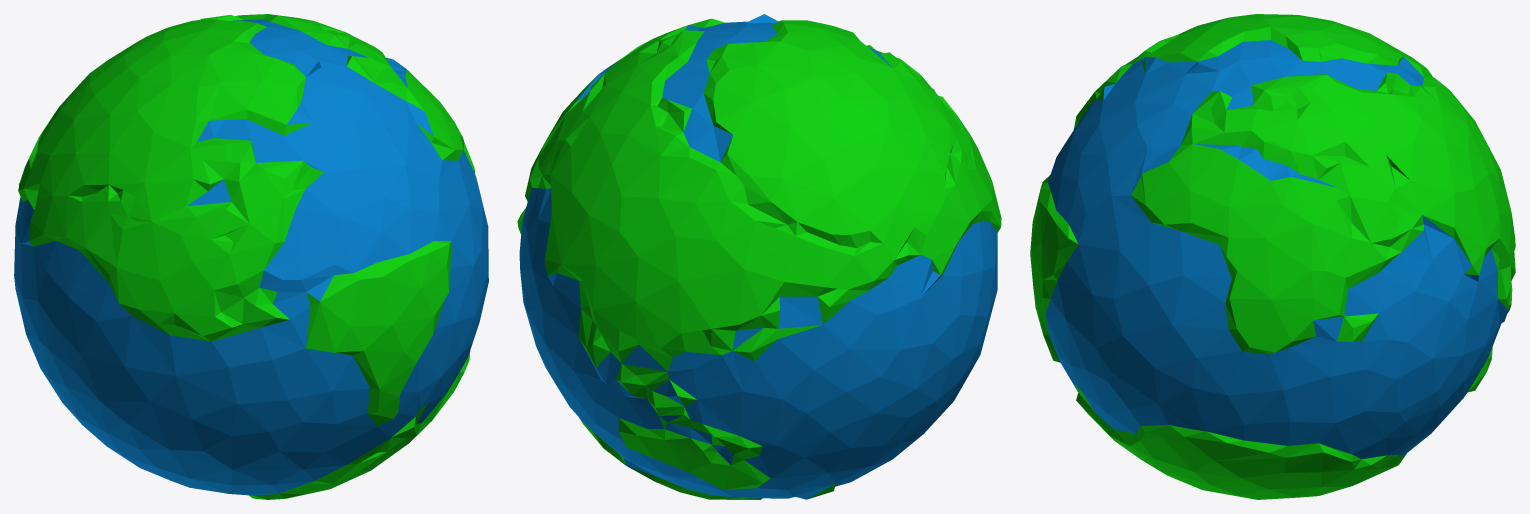
The model's file is Earth.obj.
3 renders of one model, left to right at view 1: azimuth 30°, elevation 25°; view 2: azimuth 150°, elevation 25°; view 3: azimuth 270°, elevation 25°, orthographic.
Visible parts, largest first — view 1: Icosphere; view 2: Icosphere; view 3: Icosphere.
Boxes of the visible parts, box(x1,y1,x2,y2) form: Icosphere: box(14, 14, 488, 499); Icosphere: box(517, 14, 1001, 499); Icosphere: box(1030, 14, 1515, 499).
Size of the model in its own units: 2.02 by 2.04 by 2.04.
